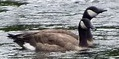goose: (6, 17, 101, 55), (26, 5, 108, 49)
